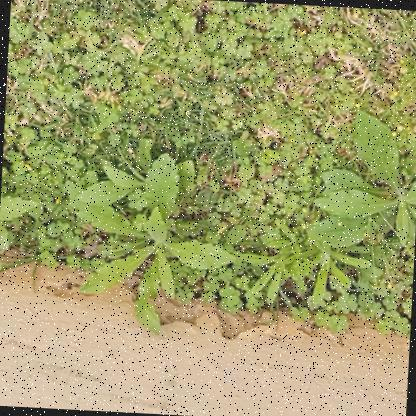Weeds: (59, 137, 242, 339), (308, 111, 415, 259), (294, 225, 375, 307), (240, 235, 306, 307)
